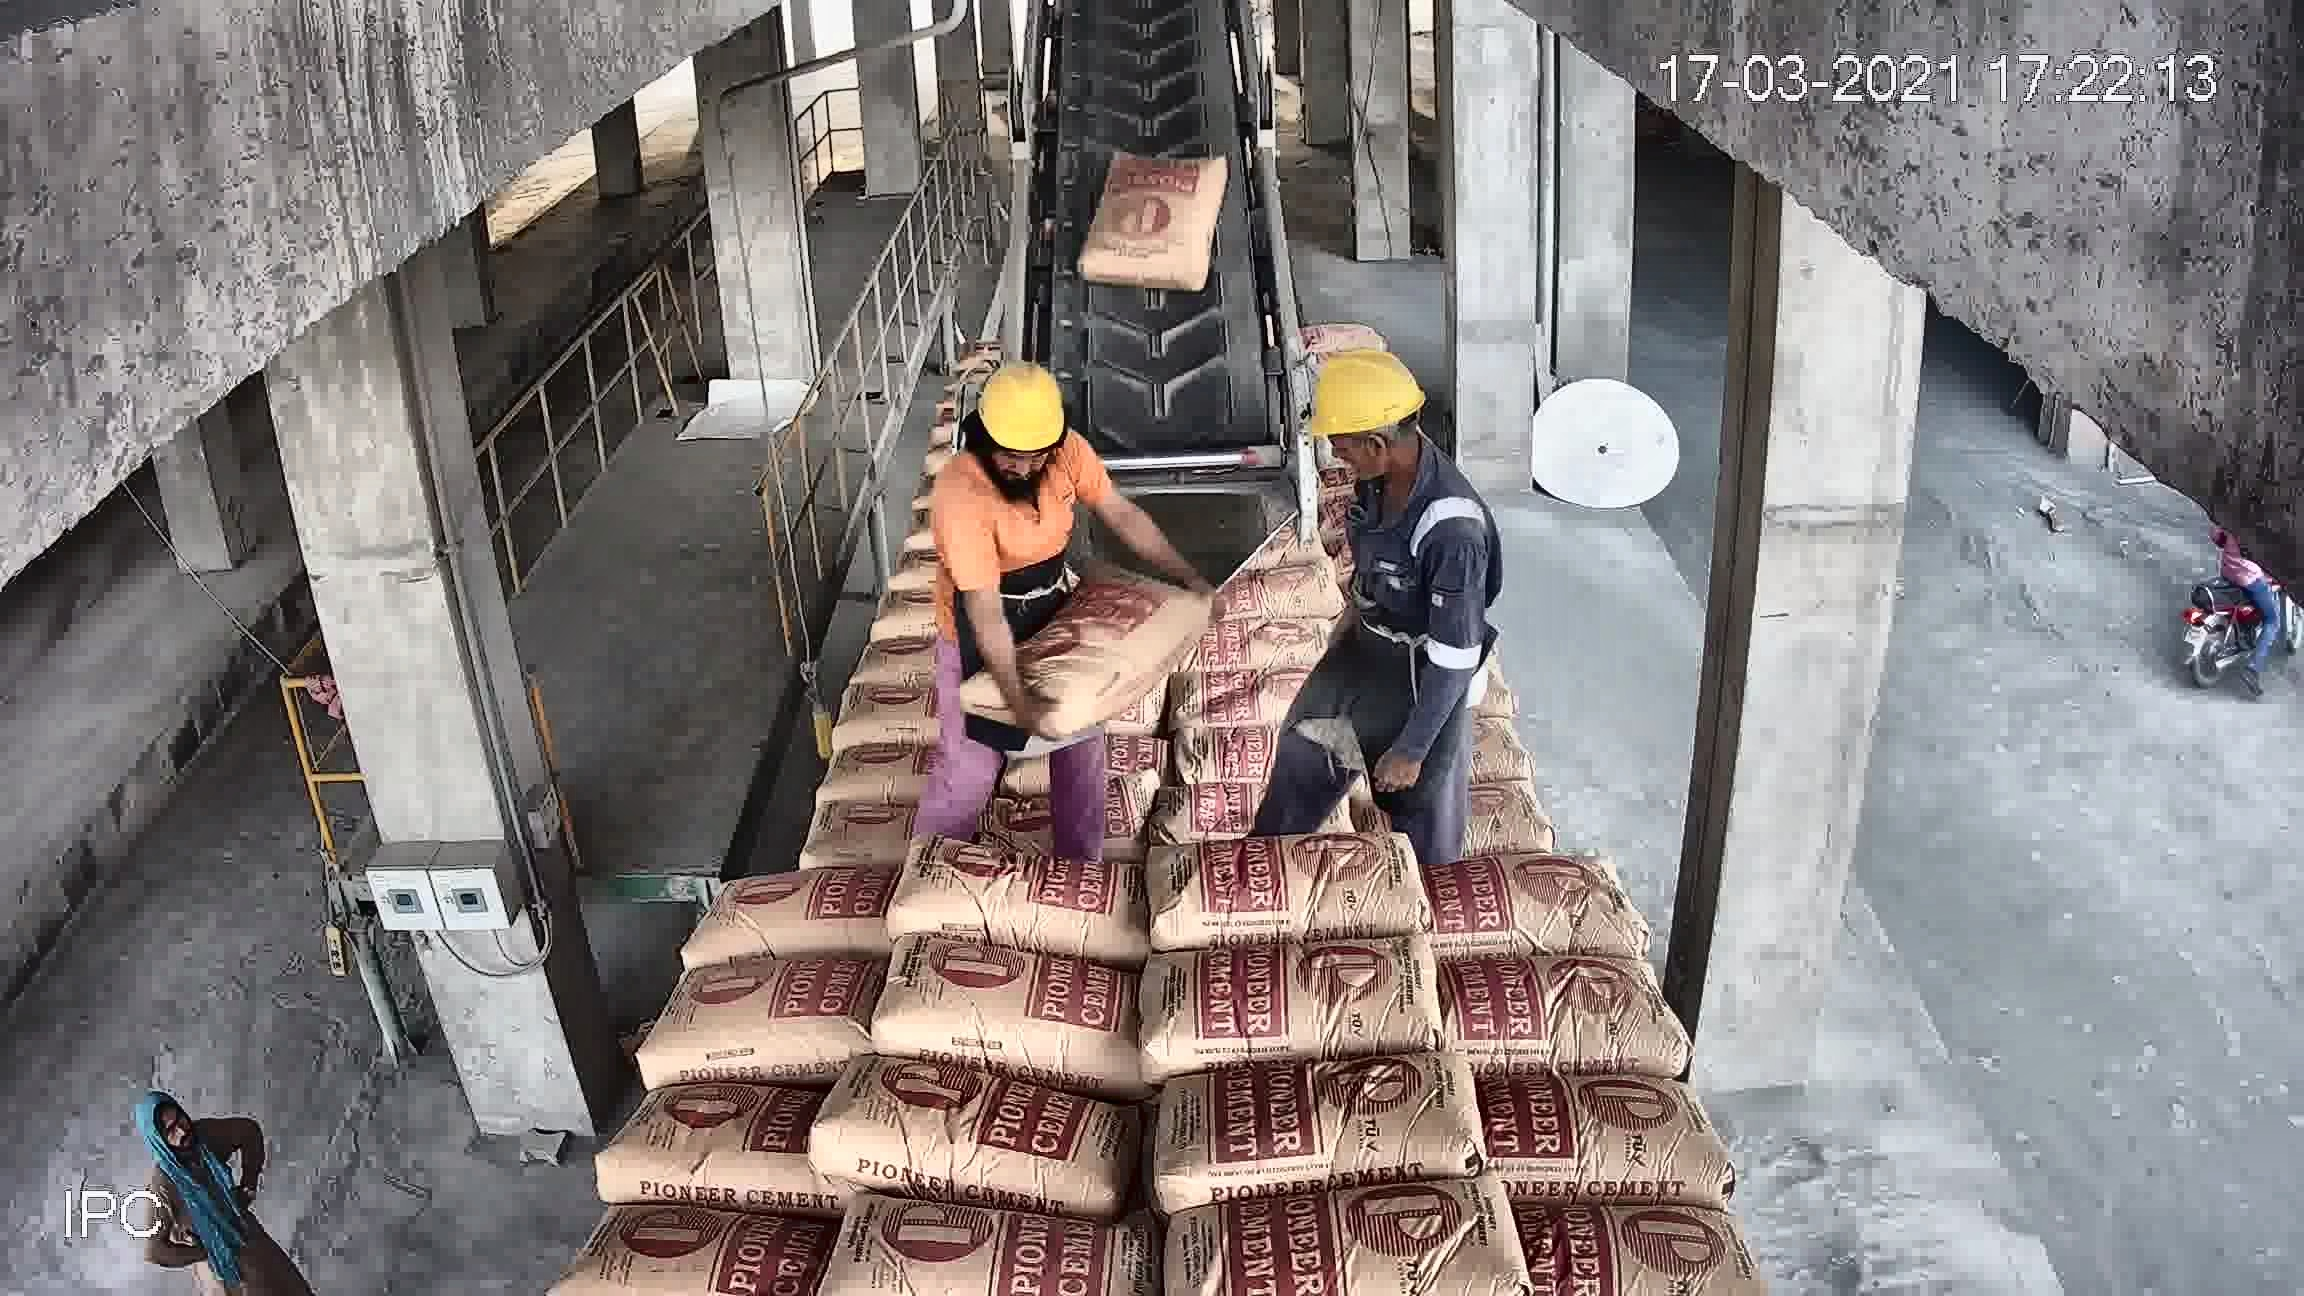bag: (973, 567, 1217, 684), (1092, 155, 1217, 302)
bag_h: (1120, 1022, 1457, 1204), (1155, 1150, 1519, 1296), (1146, 918, 1454, 1059), (1143, 813, 1408, 948), (828, 1190, 1147, 1296), (813, 1098, 1147, 1199), (1503, 1169, 1761, 1296), (1154, 720, 1394, 855), (1412, 848, 1630, 981), (597, 1086, 832, 1203), (636, 964, 867, 1082), (883, 967, 1157, 1067), (1456, 945, 1665, 1073), (1483, 1060, 1685, 1192), (905, 851, 1161, 948), (726, 699, 991, 791), (1331, 671, 1546, 771), (571, 1204, 817, 1287), (695, 869, 889, 970), (1400, 753, 1578, 859), (897, 767, 1131, 840), (725, 777, 900, 869), (1199, 524, 1287, 585)
belt: (1017, 2, 1271, 486)
